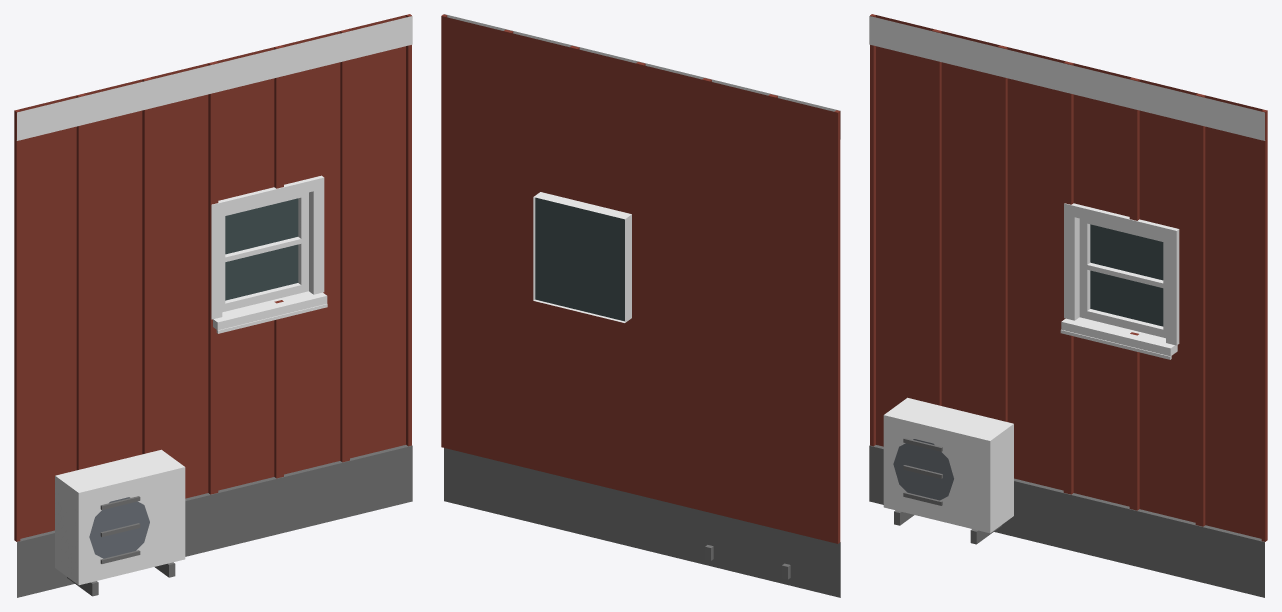
File: base-w4_close.fbx
The picture shows the model from 3 angles, left to right: view 1: azimuth 30°, elevation 25°; view 2: azimuth 150°, elevation 25°; view 3: azimuth 330°, elevation 25°; orthographic projection.
Visible parts, largest first — view 1: a2015/600/base-w4_close; view 2: a2015/600/base-w4_close; view 3: a2015/600/base-w4_close.
Boxes of the visible parts, box(x1,y1,x2,y2) form: a2015/600/base-w4_close: box(14, 14, 412, 597); a2015/600/base-w4_close: box(441, 14, 840, 597); a2015/600/base-w4_close: box(869, 14, 1267, 597).
Size of the model in its own units: 2.6 by 3.05 by 0.4.
